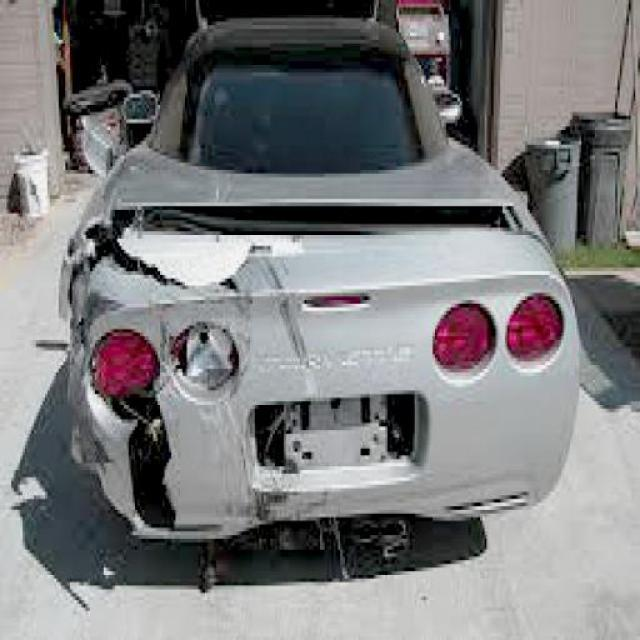car damage: (58, 180, 319, 541)
